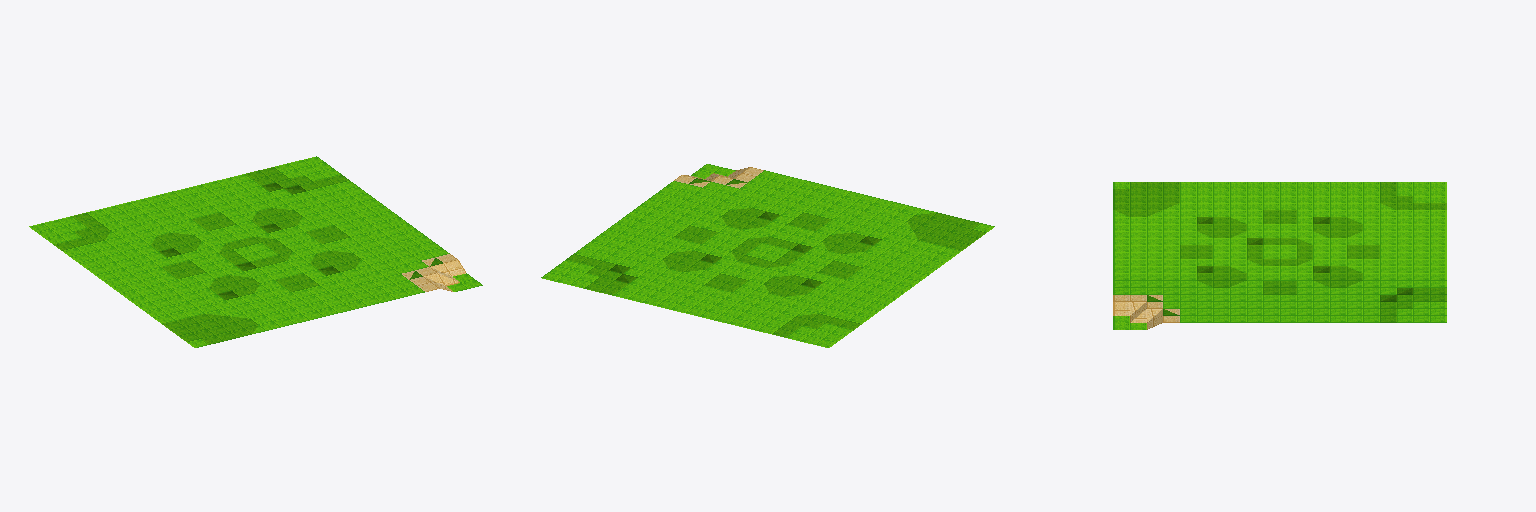
3 views of the same model, side by side, from view 1: azimuth 30°, elevation 25°; view 2: azimuth 150°, elevation 25°; view 3: azimuth 270°, elevation 25° (orthographic).
Parts seen in each view (by area): view 1: FloorCentral_2; view 2: FloorCentral_2; view 3: FloorCentral_2.
Boxes of the visible parts, box(x1,y1,x2,y2) form: FloorCentral_2: box(29, 156, 482, 347); FloorCentral_2: box(541, 164, 994, 347); FloorCentral_2: box(1113, 182, 1446, 329).
Bounding box in the file's own units: 20 × 0.4822 × 20.
8 materials, 8 textured.